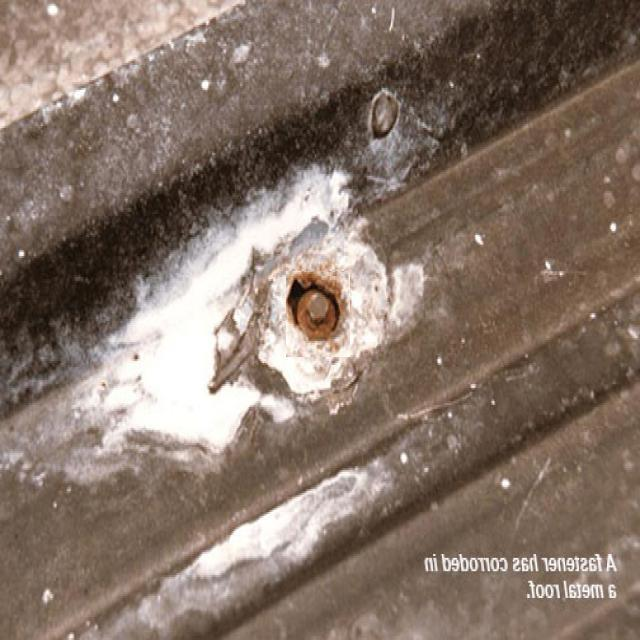Corrosion: (295, 289, 339, 340)
